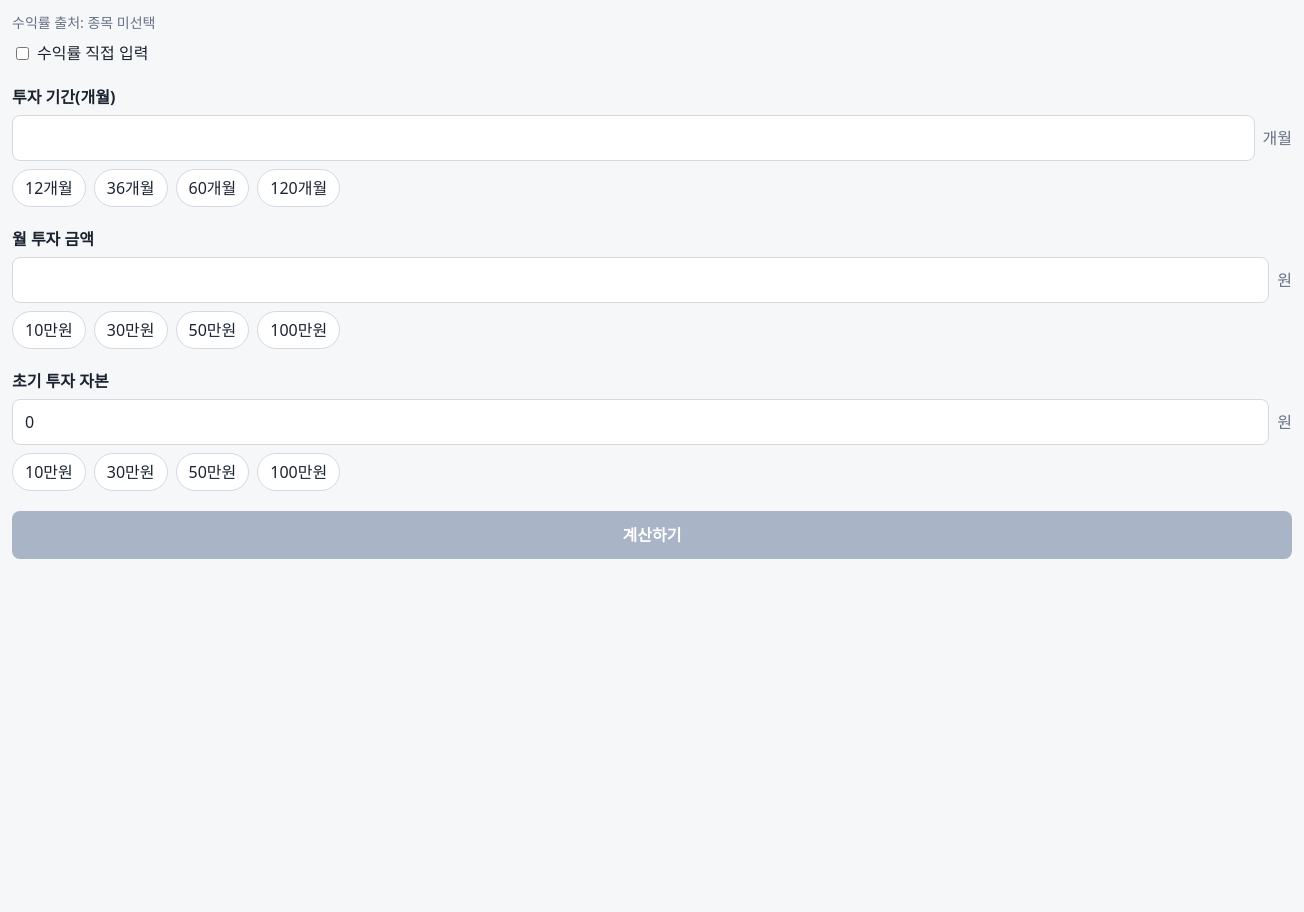
Test: InputForm › 수익률 직접 입력 › 범위를 벗어난 -100%는 오류 + 비활성화
This screenshot has width=1304, height=912.
Type "12" into the field labelled "투자 기간(개월)" at x=633, y=138, box [12, 115, 1254, 161]
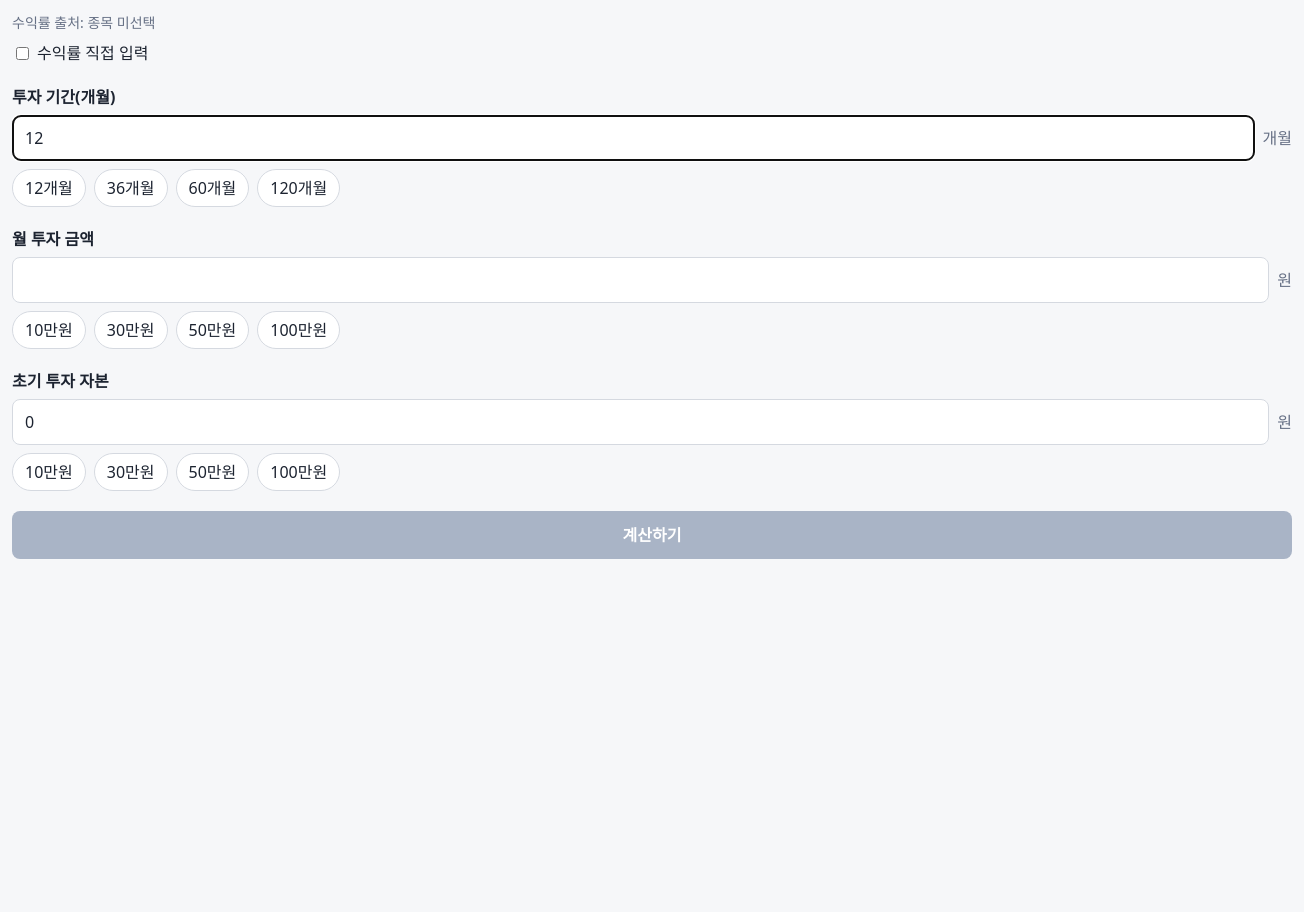
Type "100000" into the field labelled "월 투자 금액" at x=641, y=280, box [12, 257, 1269, 303]
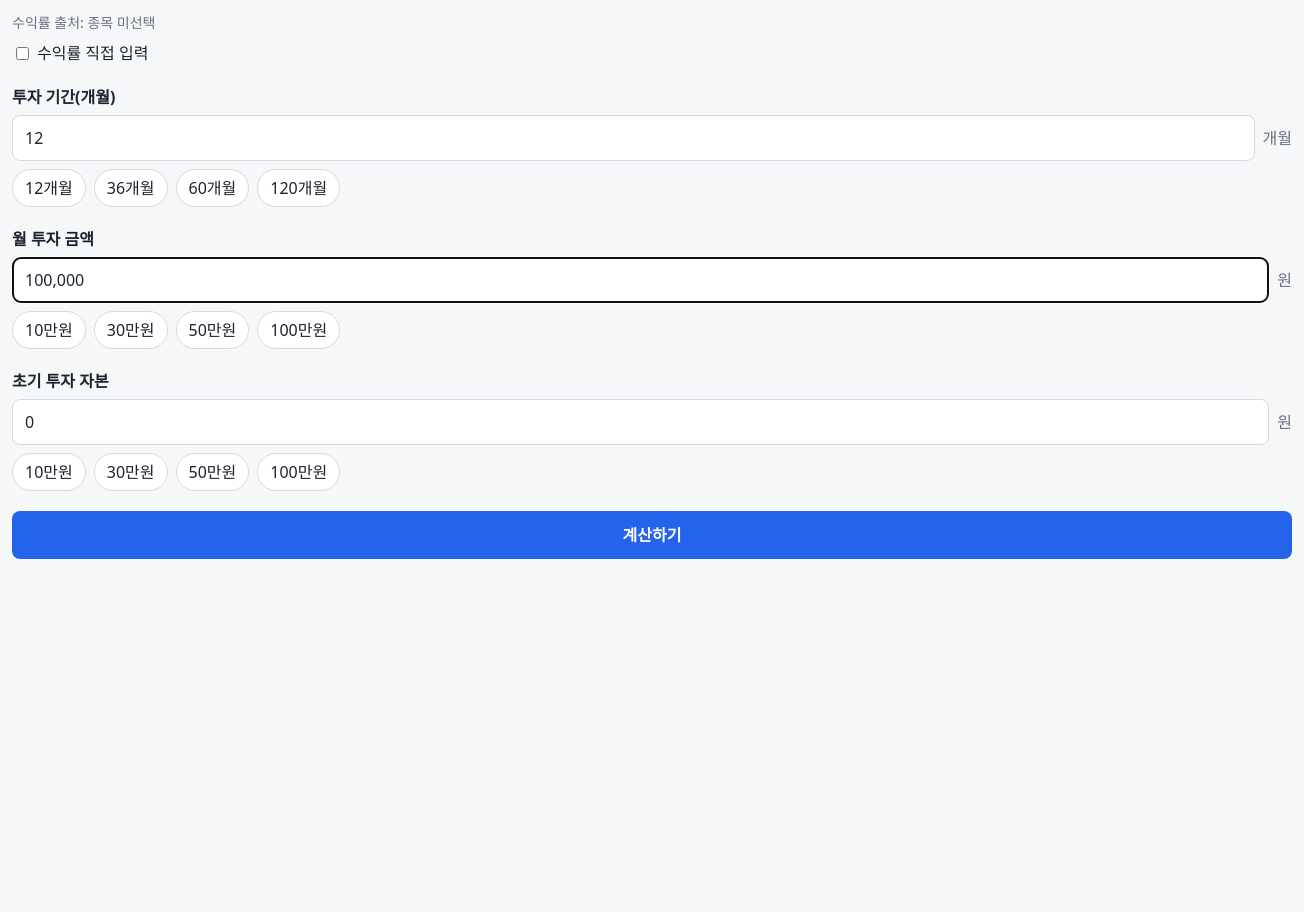
Click the checkbox labelled "수익률 직접 입력" at x=22, y=53, box [16, 46, 29, 60]
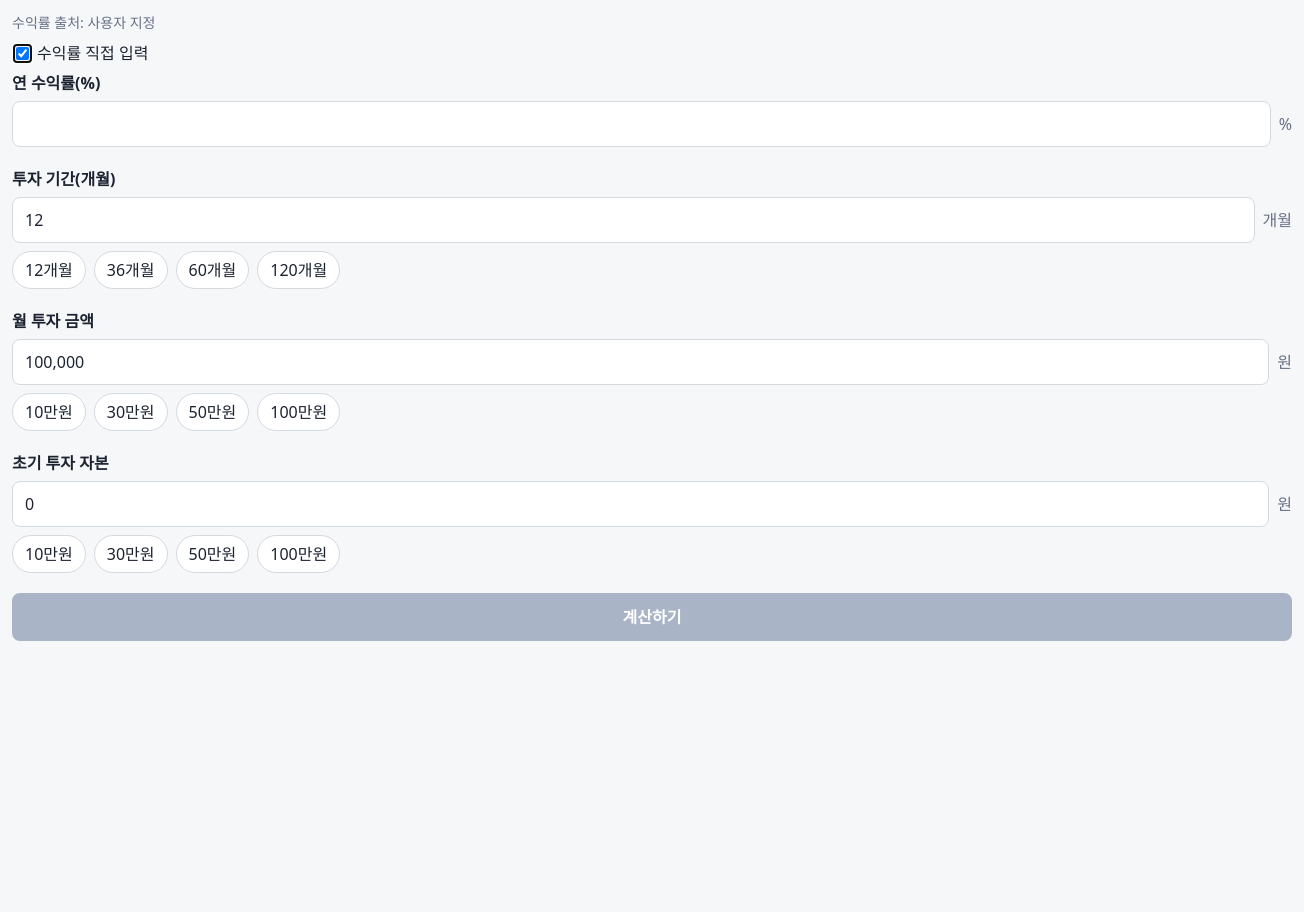
Type "-100" into the field labelled "연 수익률(%)" at x=641, y=124, box [12, 101, 1271, 147]
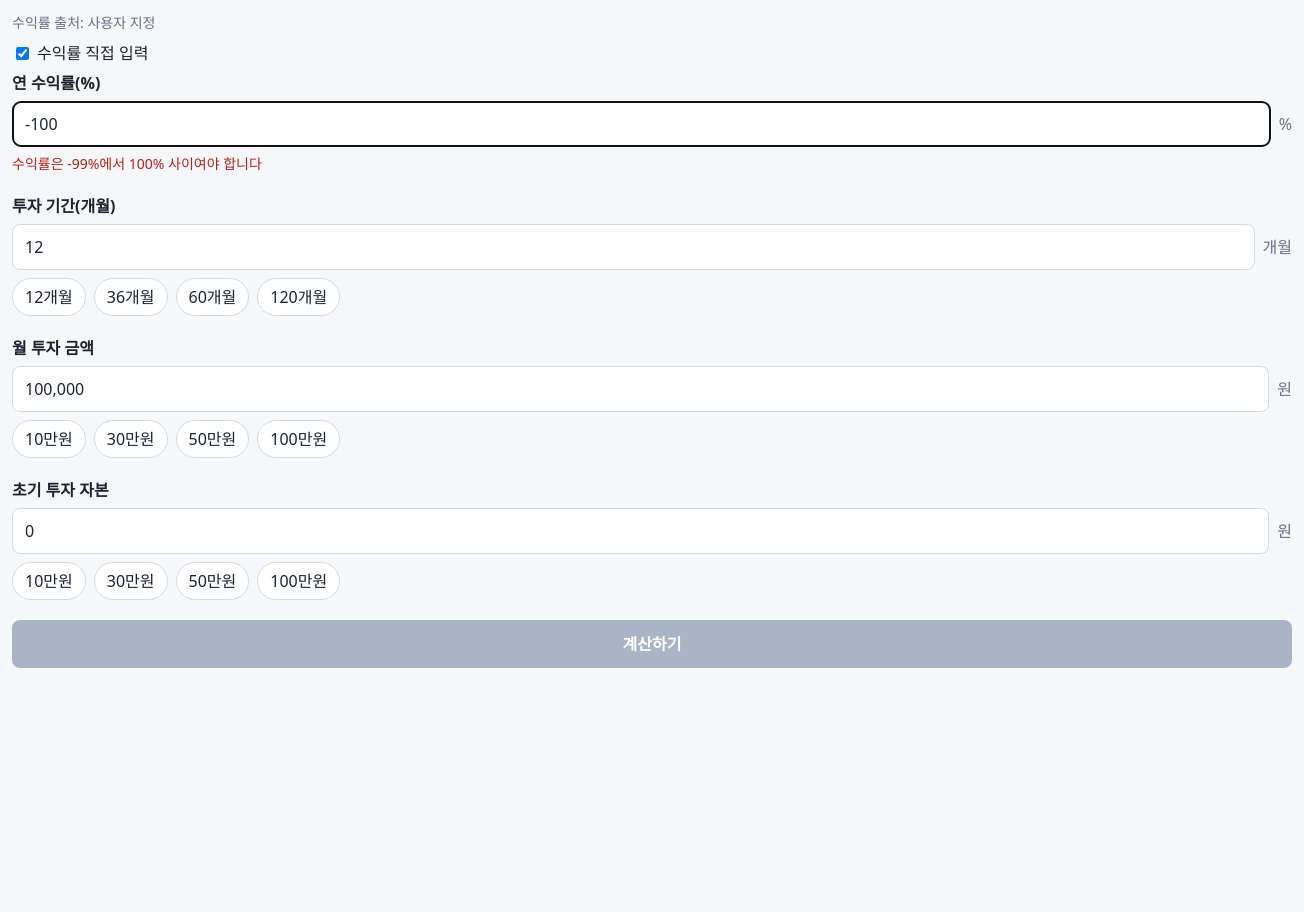
Expected: the button "계산하기" is disabled, [12, 620, 1292, 668]
Expected: the text "수익률은 -99%에서 100% 사이여야 합니다" is shown, [12, 154, 262, 173]
